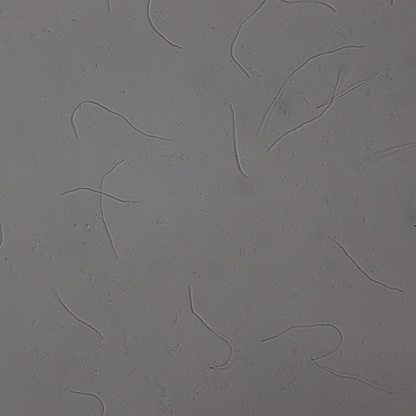Sensitive: (261, 41, 365, 125), (57, 159, 138, 262), (268, 69, 344, 152), (68, 99, 173, 143), (326, 236, 402, 291), (187, 287, 235, 370), (228, 1, 269, 77), (260, 322, 343, 359), (52, 287, 101, 334), (143, 1, 182, 48), (227, 102, 246, 177), (69, 388, 106, 416), (280, 1, 336, 14)
